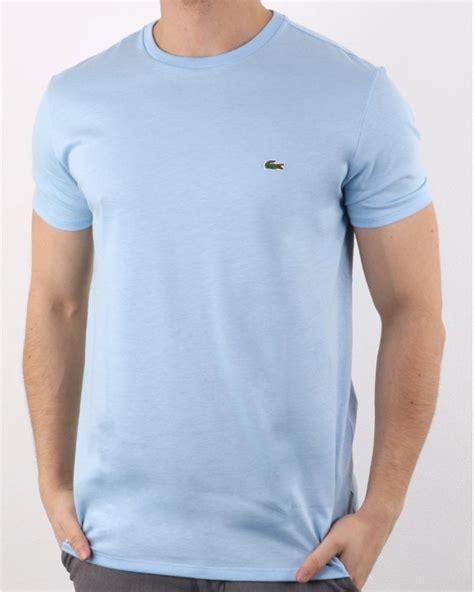Tshirt: (32, 10, 434, 582)
